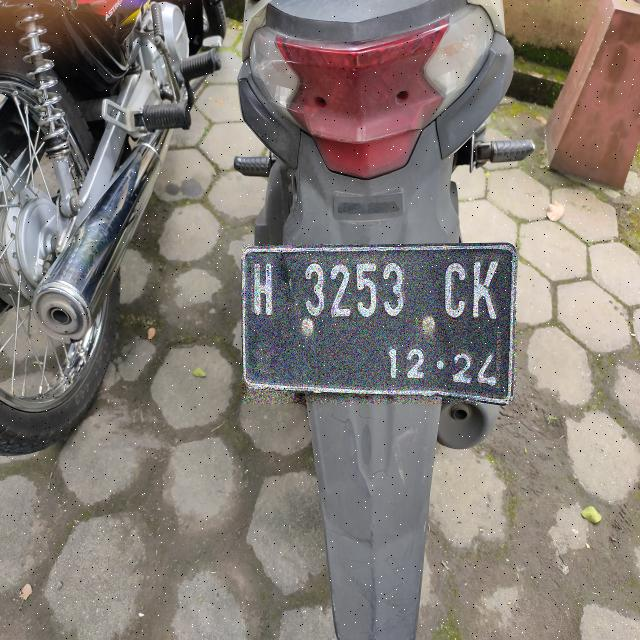plate: (243, 244, 516, 403)
